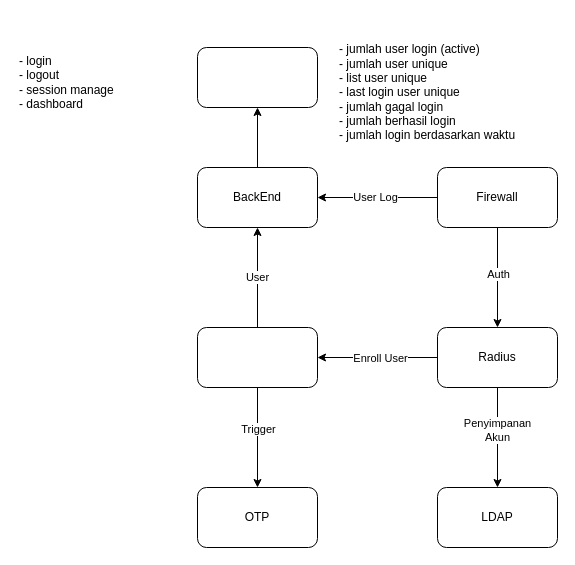
This 575x565 diagram has some shape labels left out. Here are the shapes that lost their labels. From the top down, the centre of each, then its label:
At (x=257, y=77): "FrontEnd".
At (x=257, y=357): "PrivacyIdea".
